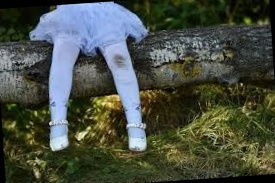earth: (113, 53, 124, 69)
